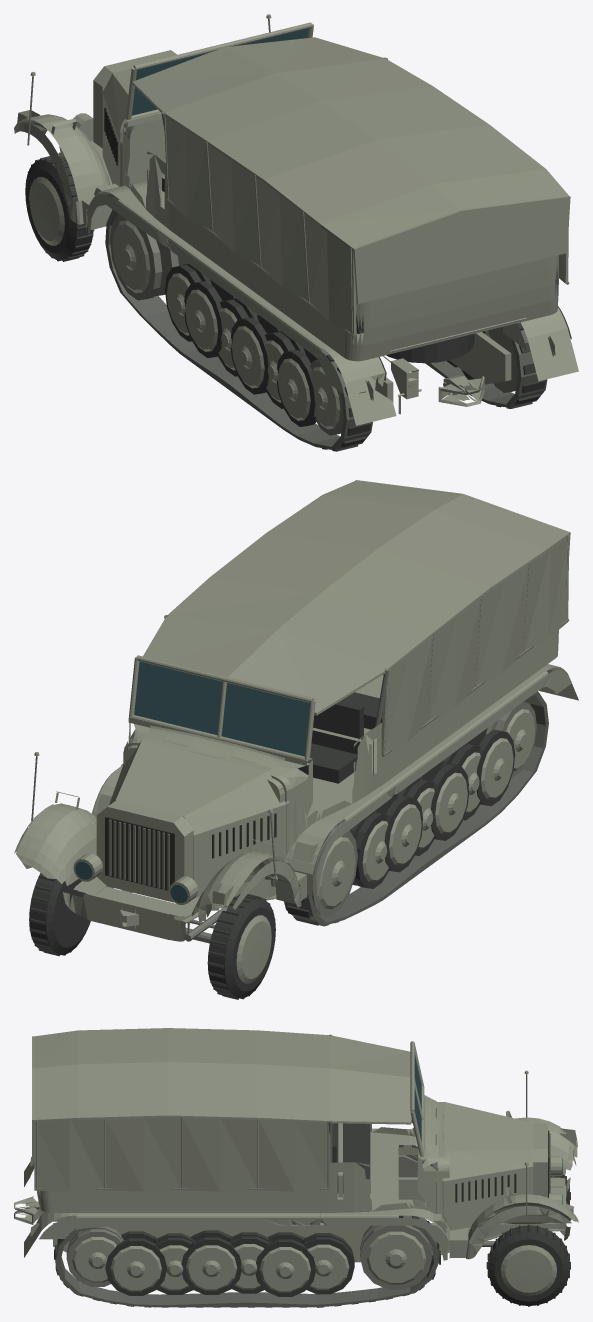
File: vehicle_adapter.glb
The picture shows the model from 3 angles, top to bottom: view 1: azimuth 30°, elevation 25°; view 2: azimuth 150°, elevation 25°; view 3: azimuth 270°, elevation 25°; orthographic projection. The views are drawn at different scales.
Visible parts, largest first — view 1: CanvasRoofCurtainsAndWindshield, FendersHoodLouversRadiatorAndLights, HullArmour, PassengerSeatsControlsRearDoorAndSpareWheel, track_l, FrontPneumaticWheelsAxleAndSteering, wheel_l_drive, wheel_l_03, wheel_l_05, wheel_l_07, track_r, wheel_l_back (+4 smaller); view 2: CanvasRoofCurtainsAndWindshield, HullArmour, FendersHoodLouversRadiatorAndLights, FrontPneumaticWheelsAxleAndSteering, track_l, PassengerSeatsControlsRearDoorAndSpareWheel, wheel_l_drive, wheel_l_05, wheel_l_03, wheel_l_07, wheel_l_02, wheel_l_back (+2 smaller); view 3: CanvasRoofCurtainsAndWindshield, HullArmour, FendersHoodLouversRadiatorAndLights, track_r, FrontPneumaticWheelsAxleAndSteering, wheel_r_drive, wheel_r_05, wheel_r_07, wheel_r_03, wheel_r_back, wheel_r_02, PassengerSeatsControlsRearDoorAndSpareWheel (+3 smaller).
Boxes of the visible parts, x1,y1,x2,y2 form: CanvasRoofCurtainsAndWindshield: [125, 22, 570, 337]; FendersHoodLouversRadiatorAndLights: [14, 14, 578, 425]; HullArmour: [93, 50, 558, 402]; PassengerSeatsControlsRearDoorAndSpareWheel: [162, 177, 530, 363]; track_l: [105, 209, 372, 451]; FrontPneumaticWheelsAxleAndSteering: [25, 155, 97, 261]; wheel_l_drive: [110, 214, 178, 300]; wheel_l_03: [184, 279, 235, 357]; wheel_l_05: [230, 315, 279, 394]; wheel_l_07: [277, 348, 317, 426]; track_r: [425, 322, 547, 408]; wheel_l_back: [310, 360, 343, 435]; CanvasRoofCurtainsAndWindshield: [129, 480, 570, 761]; HullArmour: [85, 630, 558, 923]; FendersHoodLouversRadiatorAndLights: [14, 664, 578, 941]; FrontPneumaticWheelsAxleAndSteering: [29, 873, 275, 999]; track_l: [284, 691, 548, 926]; PassengerSeatsControlsRearDoorAndSpareWheel: [298, 674, 383, 783]; wheel_l_drive: [312, 827, 357, 916]; wheel_l_05: [419, 762, 469, 840]; wheel_l_03: [374, 793, 422, 872]; wheel_l_07: [467, 728, 515, 806]; wheel_l_02: [349, 811, 388, 888]; wheel_l_back: [485, 702, 536, 777]; CanvasRoofCurtainsAndWindshield: [32, 1028, 424, 1191]; HullArmour: [34, 1095, 564, 1262]; FendersHoodLouversRadiatorAndLights: [14, 1070, 578, 1260]; track_r: [54, 1213, 440, 1307]; FrontPneumaticWheelsAxleAndSteering: [482, 1174, 570, 1306]; wheel_r_drive: [360, 1225, 432, 1289]; wheel_r_05: [181, 1230, 241, 1294]; wheel_r_07: [105, 1231, 167, 1295]; wheel_r_03: [255, 1232, 315, 1296]; wheel_r_back: [66, 1226, 124, 1286]; wheel_r_02: [301, 1233, 354, 1294]; PassengerSeatsControlsRearDoorAndSpareWheel: [332, 1117, 412, 1192].
Size of the model in its own units: 2.52 by 2.55 by 6.28.
